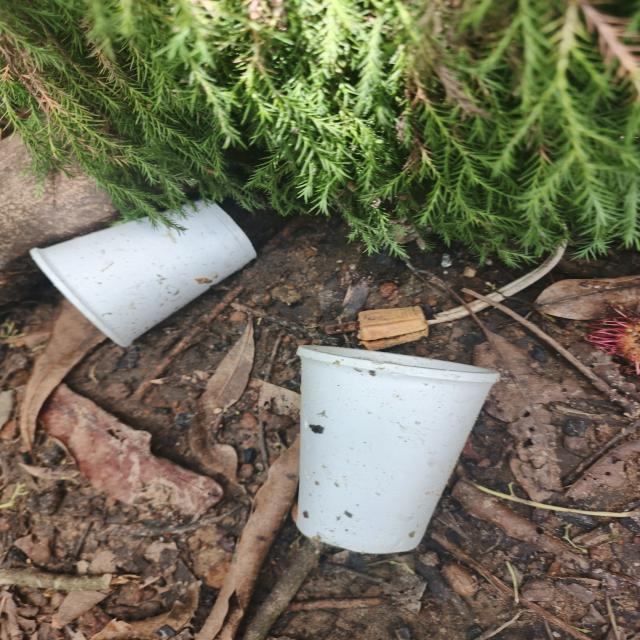plastic: (276, 336, 507, 562), (11, 189, 267, 367)
